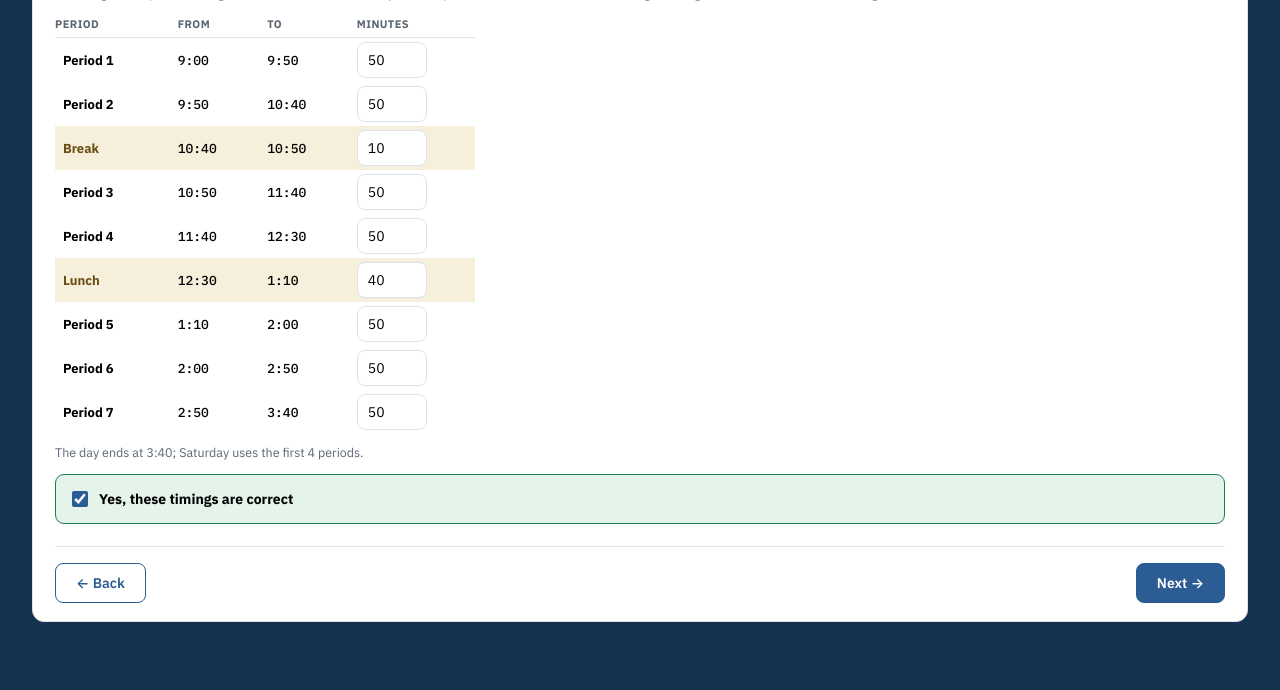
it: a coordinator can answer the questions and get versions
The image size is (1280, 690).
Earlier steps of the test are not shown.
(page scrolled)
Click the button "Next →".
click(1180, 583)  # box [1136, 563, 1225, 603]
(page scrolled)
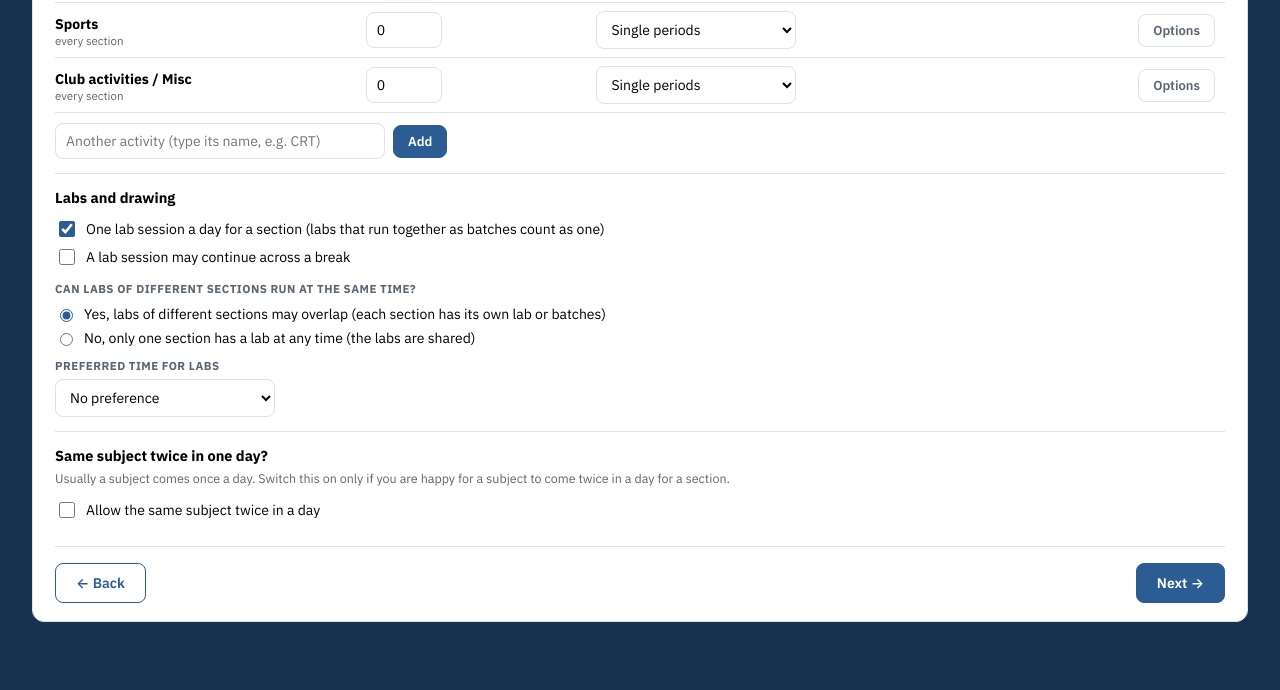
Click the button "Next →".
click(1180, 583)  # box [1136, 563, 1225, 603]
(page scrolled)
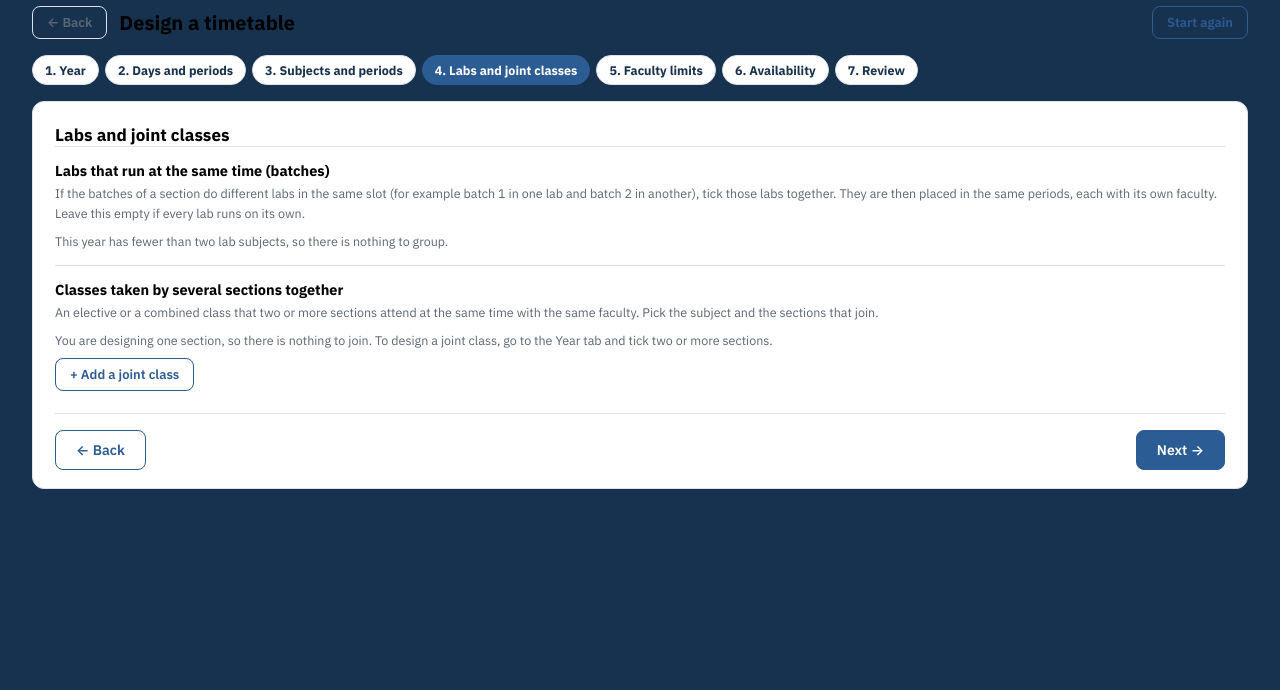
Click the button "Next →".
click(1180, 450)  # box [1136, 430, 1225, 470]
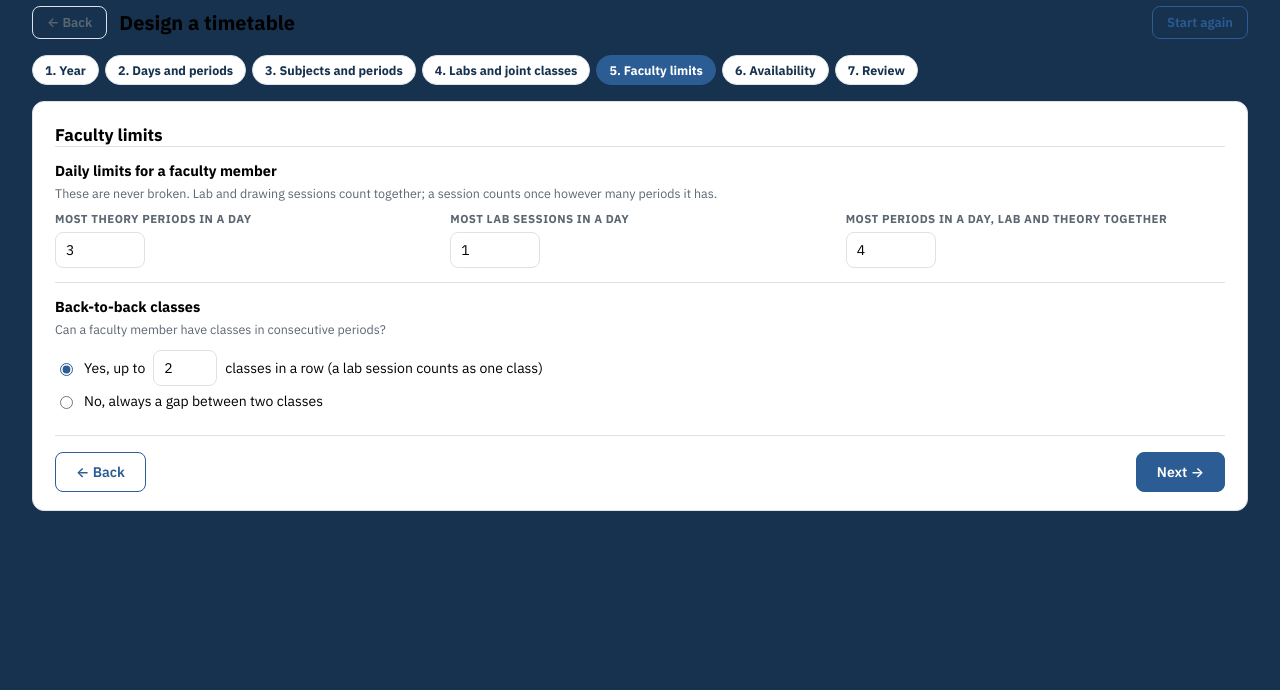
Click the button "Next →".
click(1180, 472)  # box [1136, 452, 1225, 492]
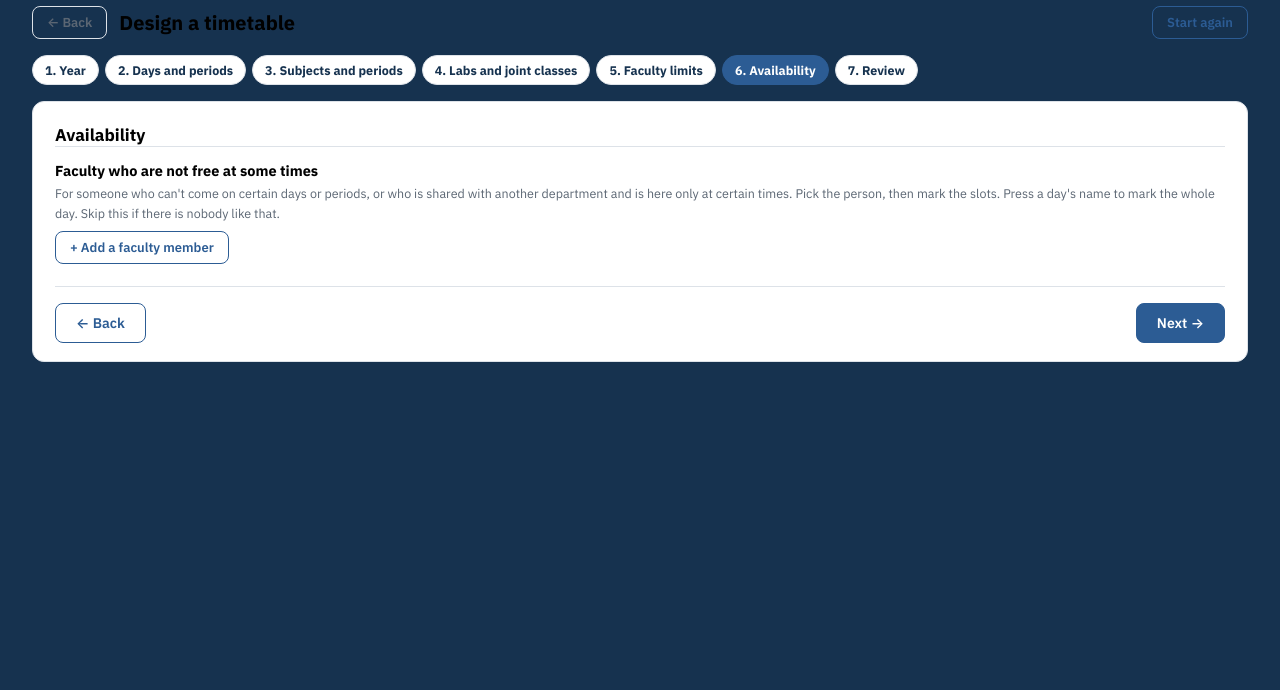
Click the button "Next →".
click(1180, 323)  # box [1136, 303, 1225, 343]
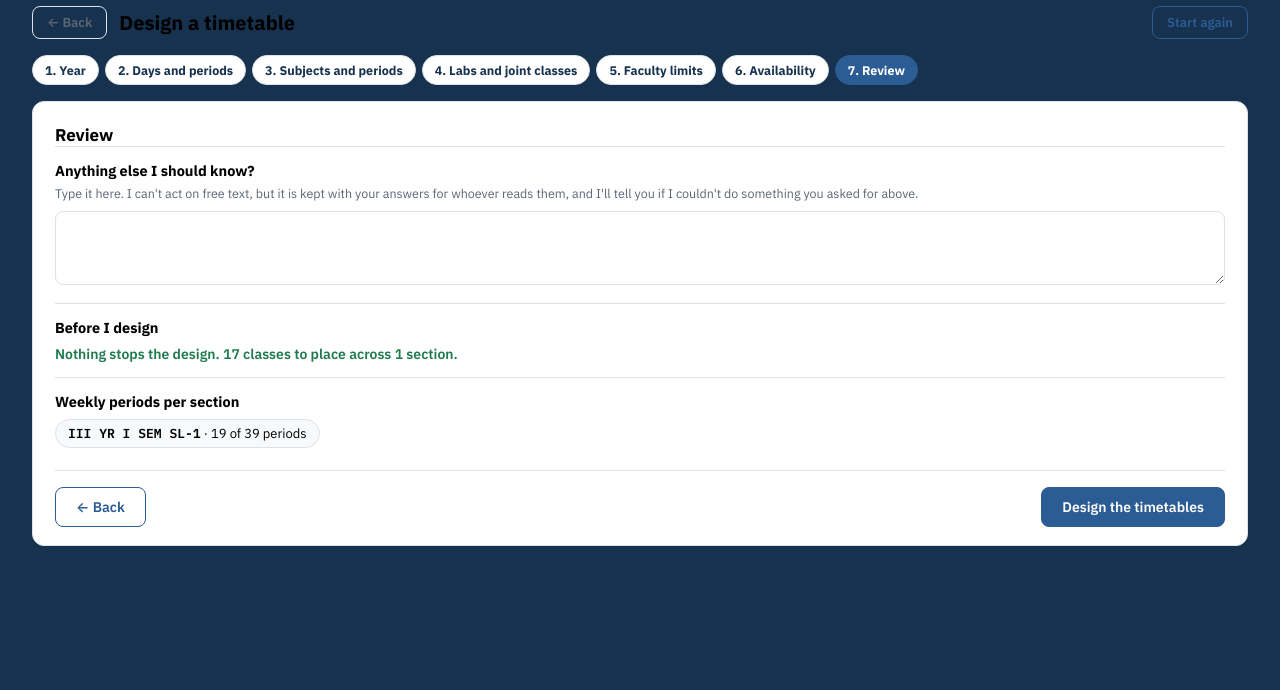
Result: the text "Before I design" is shown at [55, 318, 158, 337]
Click the button "Design the timetables".
click(1133, 507)  # box [1041, 487, 1225, 527]
(page scrolled)
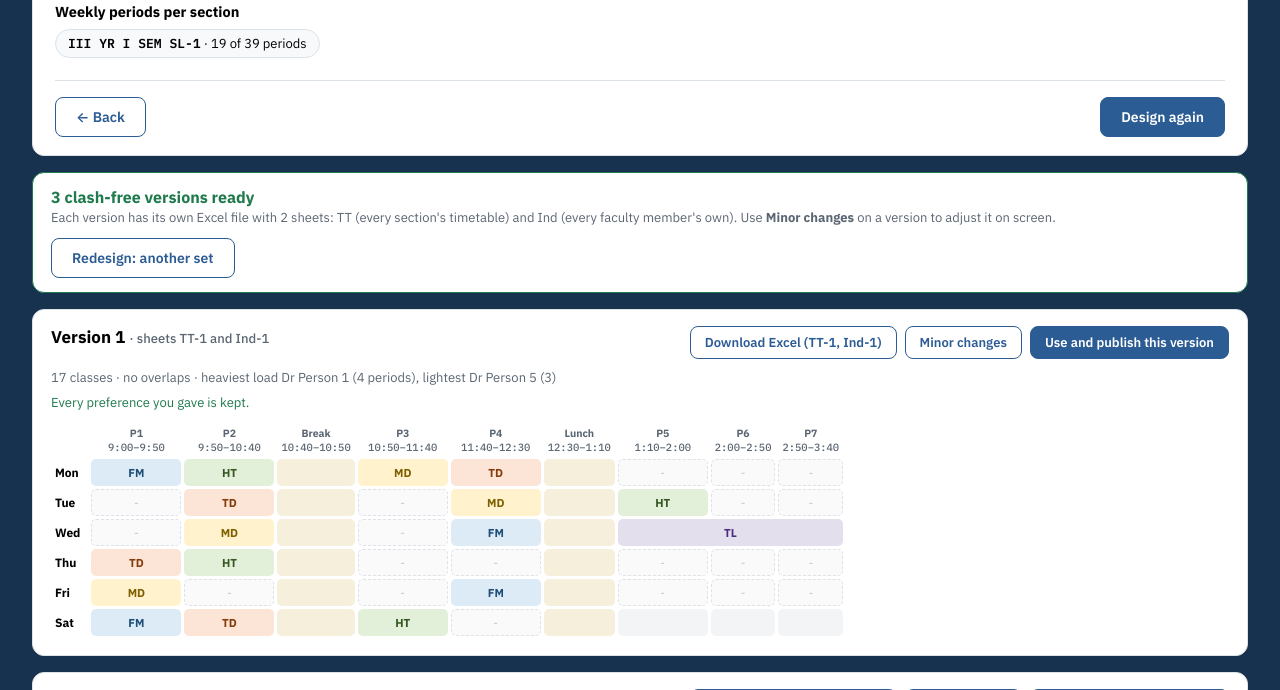
Result: the text "3 clash-free versions ready" is shown at [51, 187, 254, 207]
Result: the button "Download Excel (TT-1, Ind-1)" is shown at [690, 326, 897, 359]
Result: the text "Minor changes" is shown at [766, 209, 854, 226]
